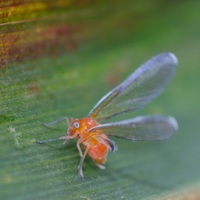insect: (36, 52, 177, 177)
